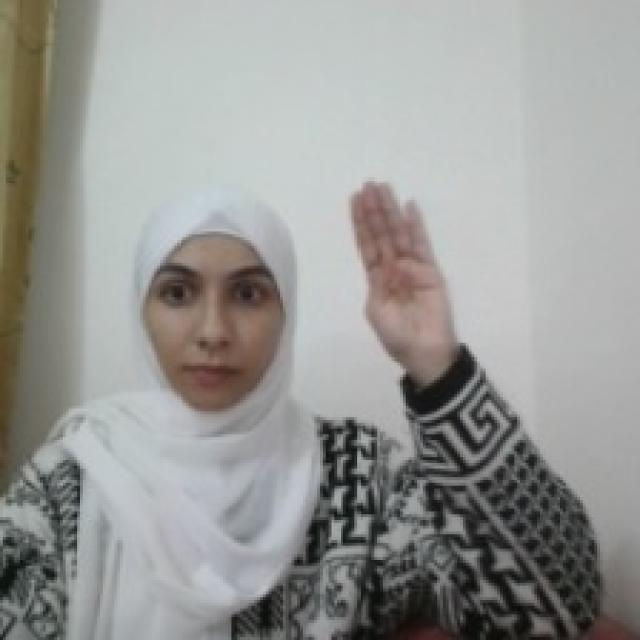Thanks: (341, 175, 457, 368)
